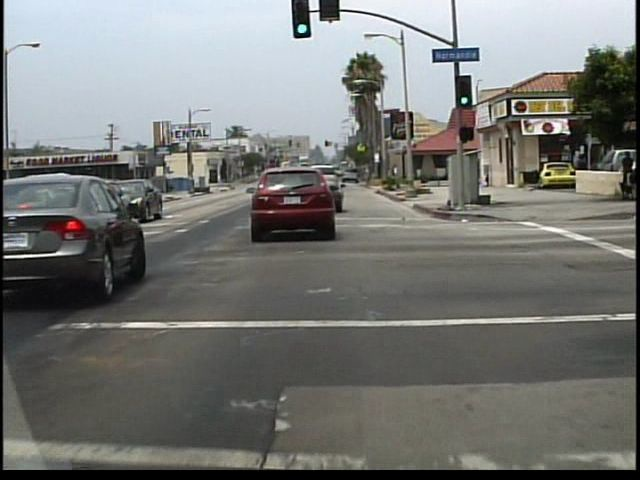person: (573, 153, 590, 195)
